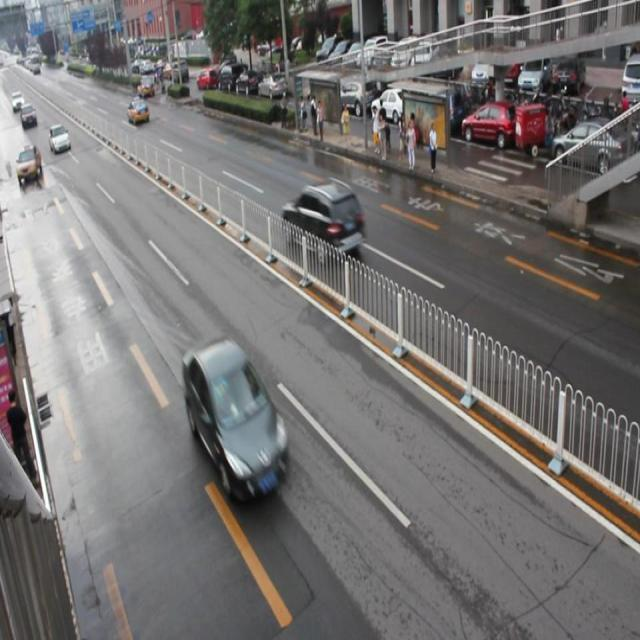car: (181, 336, 290, 503), (281, 180, 365, 262)
